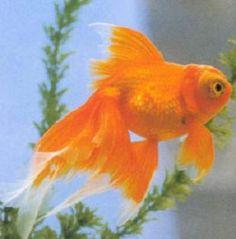goldfish: (46, 36, 232, 192)
